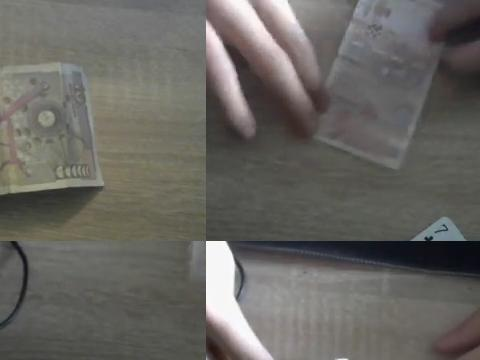10leva: (0, 63, 104, 198)
5leva: (314, 0, 447, 172)
